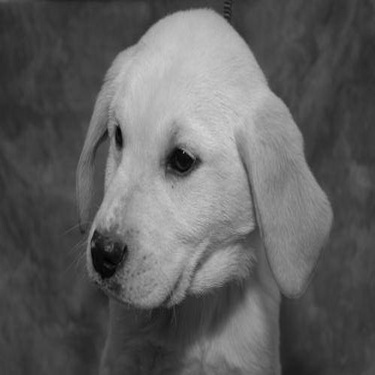dog: (72, 7, 337, 371)
